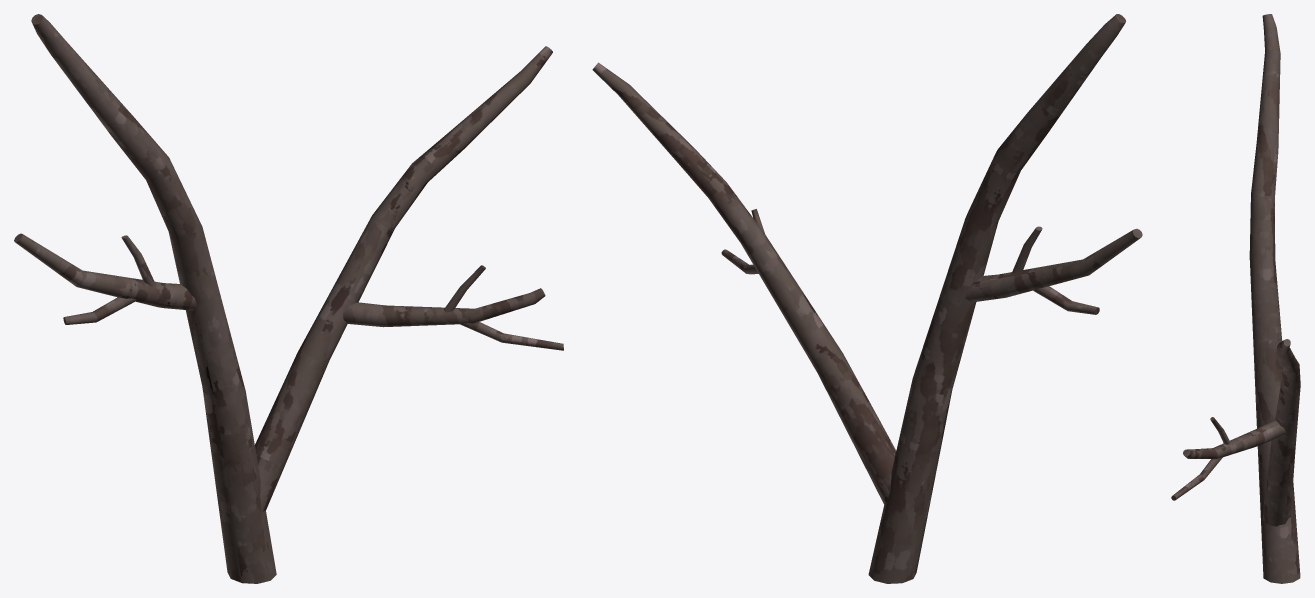
The model's file is deadtree_8.glb.
3 renders of one model, left to right at view 1: azimuth 30°, elevation 25°; view 2: azimuth 150°, elevation 25°; view 3: azimuth 270°, elevation 25°, orthographic. The views are drawn at different scales.
Visible parts, largest first — view 1: DeadTree_8; view 2: DeadTree_8; view 3: DeadTree_8.
Part boxes in pixels (x1=…): DeadTree_8: x1=14, y1=14, x2=563, y2=583; DeadTree_8: x1=592, y1=14, x2=1142, y2=583; DeadTree_8: x1=1171, y1=14, x2=1300, y2=583.
Size of the model in its own units: 4.59 by 4.95 by 1.21.
1 material, 1 textured.
